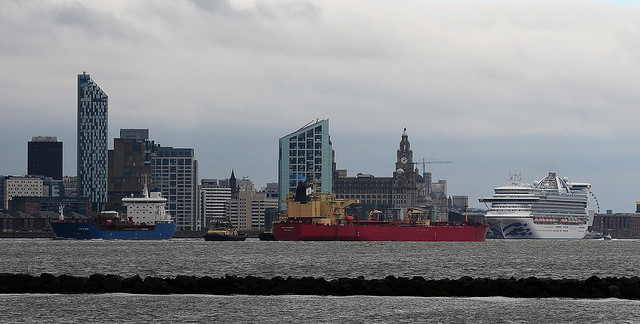boat: (196, 220, 247, 240)
cruise_ship: (486, 172, 596, 243)
tanker: (262, 180, 488, 247), (50, 186, 175, 242)
